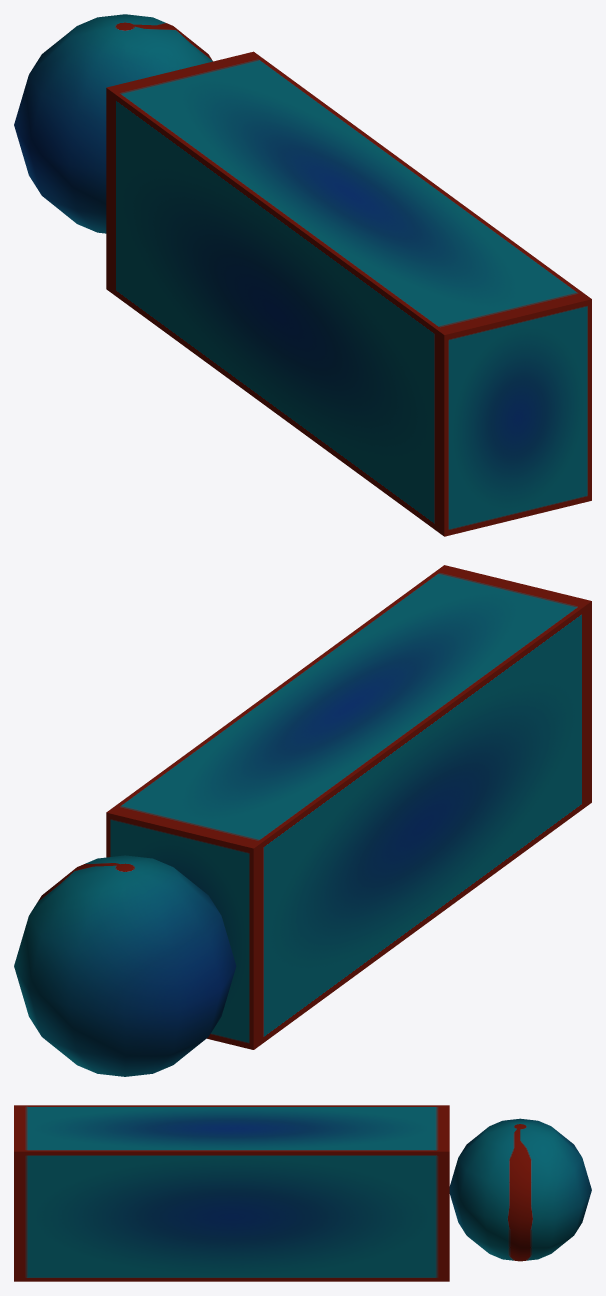
The model's file is ship_aligned.dae.
3 views of the same model, one above another, from view 1: azimuth 30°, elevation 25°; view 2: azimuth 150°, elevation 25°; view 3: azimuth 270°, elevation 25° (orthographic). The views are drawn at different scales.
Parts seen in each view (by area): view 1: Box06, Sphere01; view 2: Box06, Sphere01; view 3: Box06, Sphere01.
Boxes of the visible parts, left/top/right/bottom form: Box06: left=106, top=51, right=591, bottom=536; Sphere01: left=14, top=14, right=212, bottom=233; Box06: left=106, top=565, right=591, bottom=1049; Sphere01: left=14, top=855, right=236, bottom=1076; Box06: left=14, top=1105, right=449, bottom=1281; Sphere01: left=449, top=1118, right=591, bottom=1261.
Size of the model in its own units: 19 by 19.5 by 76.64.
1 material, 1 textured.
